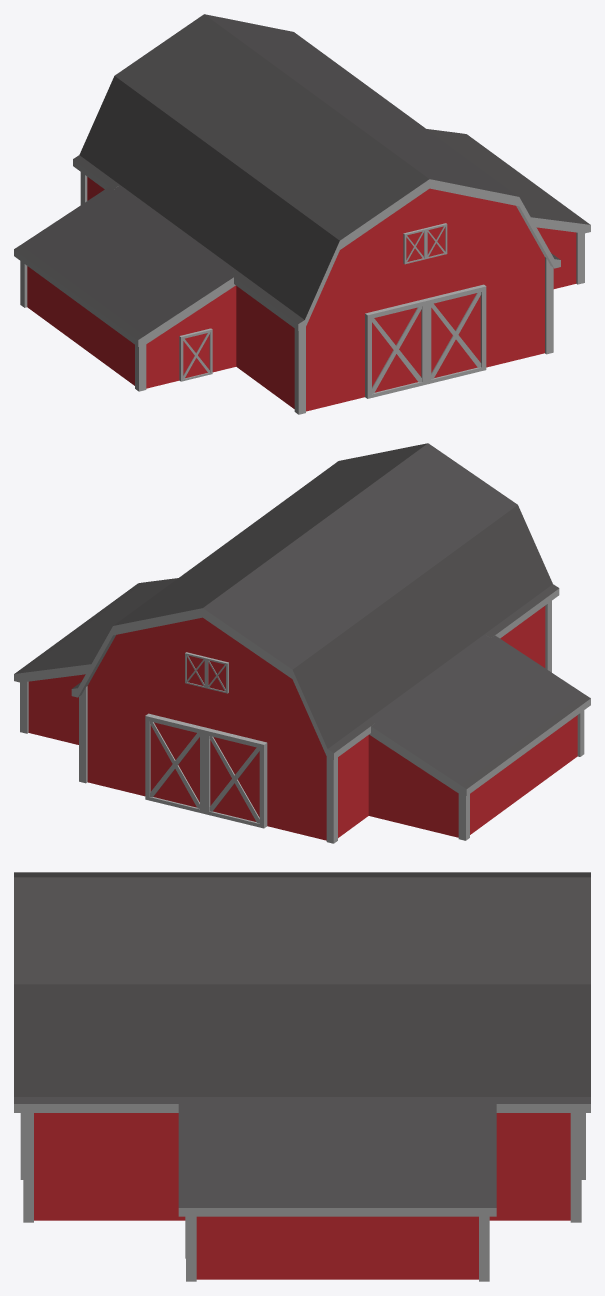
File: Boerderij_AlexBlok.fbx
3 views of the same model, one above another, from view 1: azimuth 30°, elevation 25°; view 2: azimuth 150°, elevation 25°; view 3: azimuth 270°, elevation 25° (orthographic). The views are drawn at different scales.
Parts seen in each view (by area): view 1: Cube.008; view 2: Cube.008; view 3: Cube.008.
Boxes of the visible parts, bbox=[...] form: Cube.008: bbox=[14, 14, 590, 414]; Cube.008: bbox=[14, 443, 590, 843]; Cube.008: bbox=[14, 872, 590, 1281].
Size of the model in its own units: 1448 by 634 by 1249.
